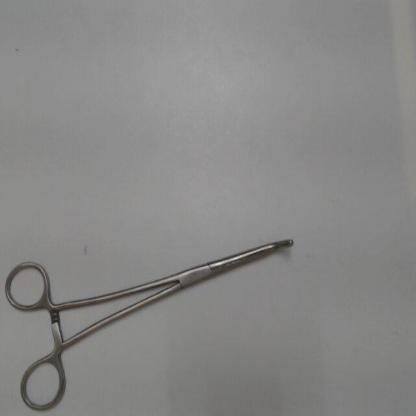Lahey Forceps: (0, 231, 300, 411)
